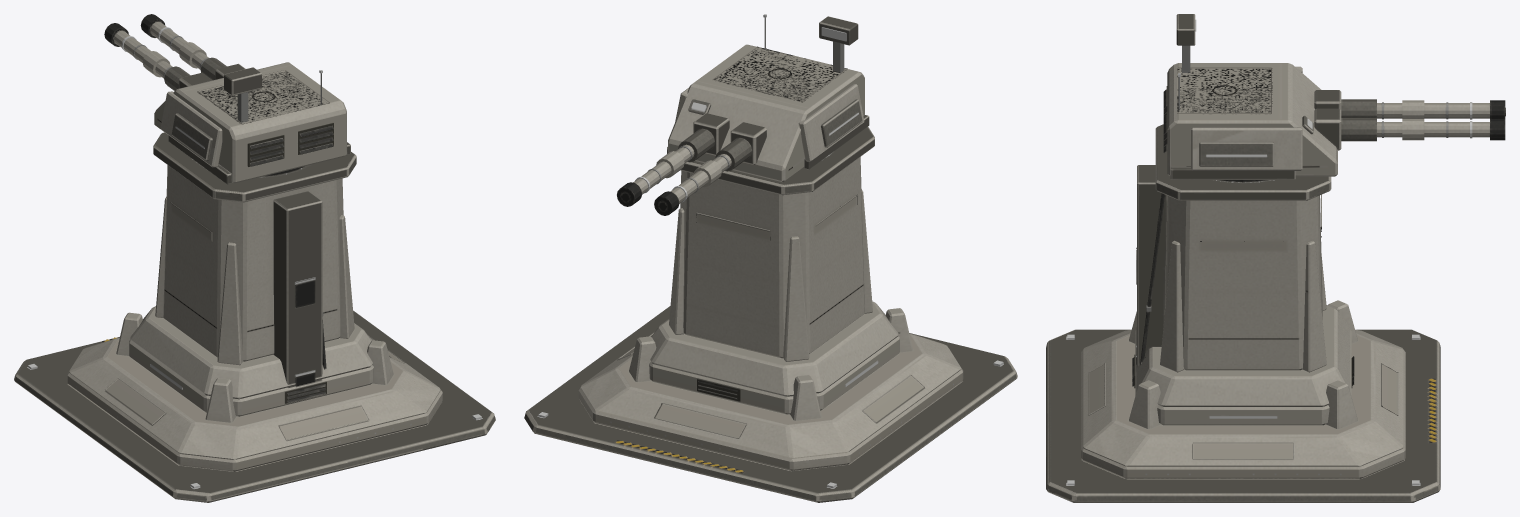
Rendered from ord_bastion.fbx.
The picture shows the model from 3 angles, left to right: view 1: azimuth 30°, elevation 25°; view 2: azimuth 150°, elevation 25°; view 3: azimuth 270°, elevation 25°; orthographic projection. The views are drawn at different scales.
Parts seen in each view (by area): view 1: base_bar, turret_bar; view 2: base_bar, turret_bar; view 3: base_bar, turret_bar.
Boxes of the visible parts, left/top/right/bottom form: base_bar: left=14, top=132, right=495, bottom=502; turret_bar: left=104, top=14, right=350, bottom=184; base_bar: left=524, top=127, right=1017, bottom=502; turret_bar: left=617, top=16, right=869, bottom=215; base_bar: left=1046, top=124, right=1440, bottom=502; turret_bar: left=1163, top=14, right=1505, bottom=179.
Bounding box in the file's own units: 2335 × 2673 × 2720.
Materials: 2 (2 with a texture image).
